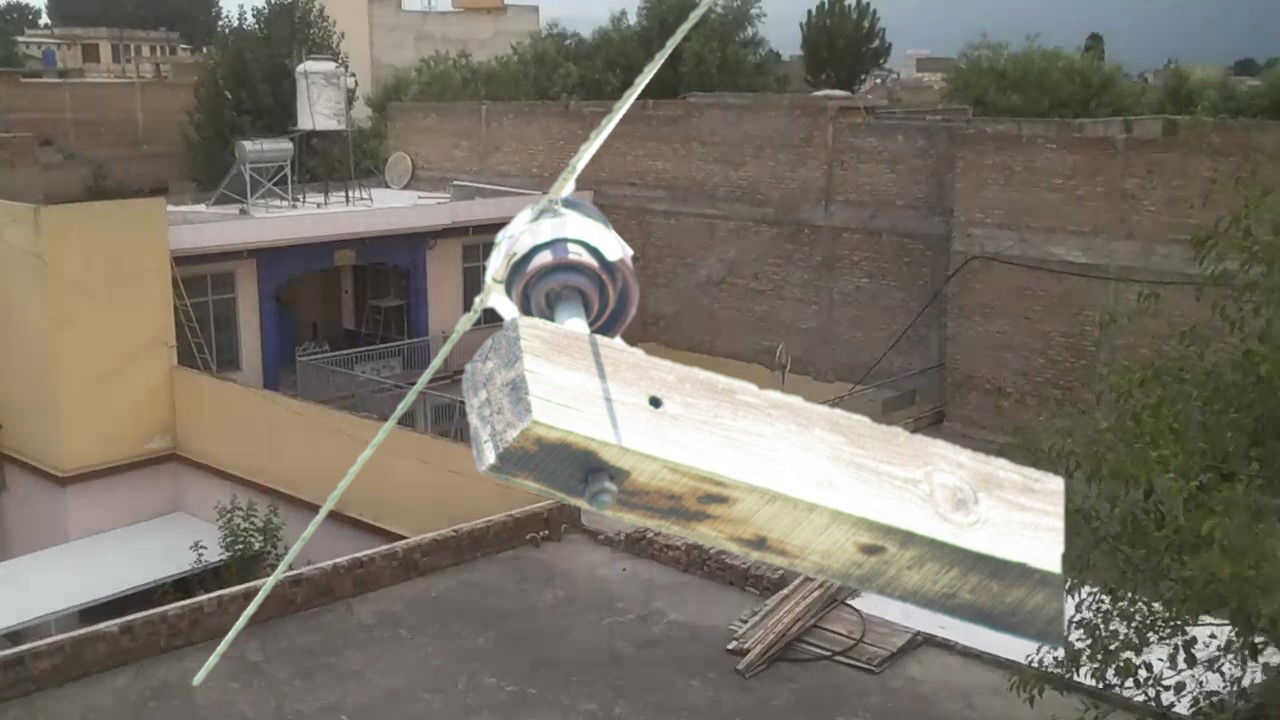defect_pin: (478, 192, 645, 337)
